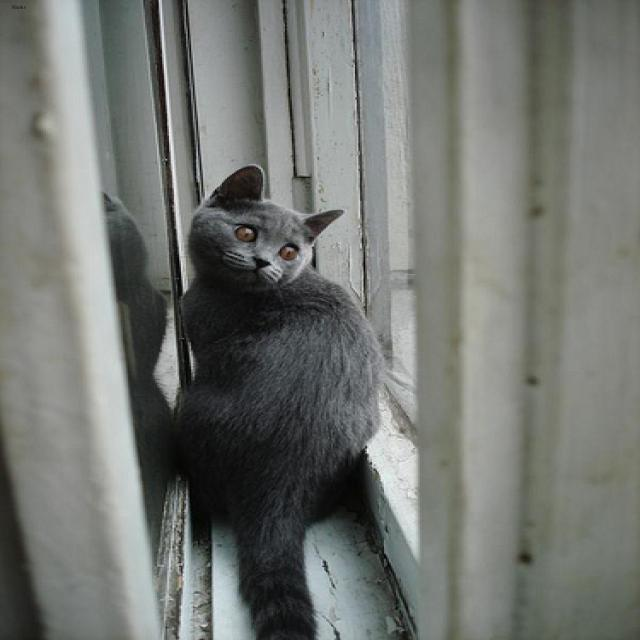British_Shorthair: (188, 163, 341, 289)
